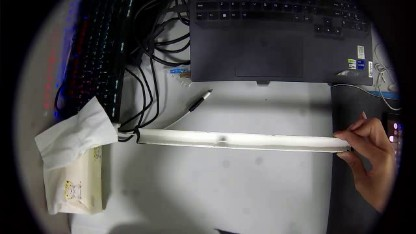gangzhu: (217, 134, 228, 144)
